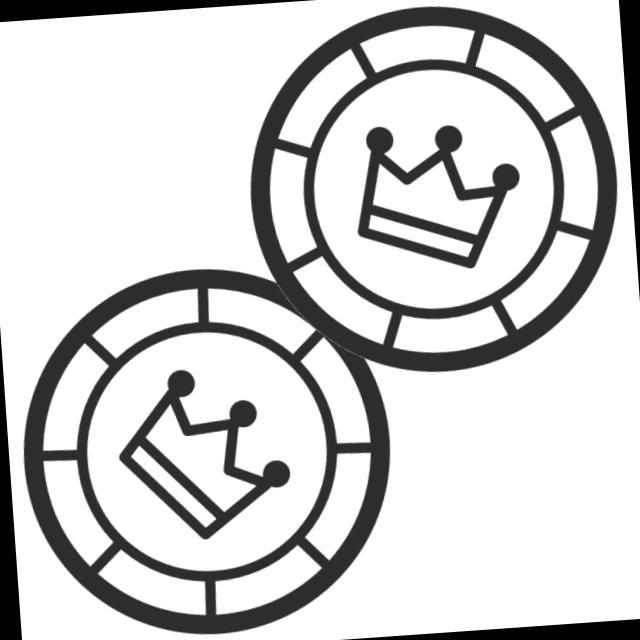coin: (8, 248, 406, 640), (229, 1, 632, 388)
